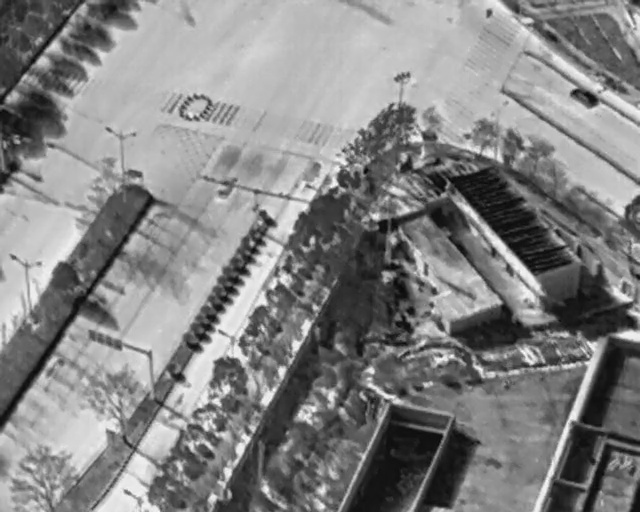Car: (568, 81, 601, 112)
Person: (214, 174, 238, 201), (486, 7, 494, 17)
